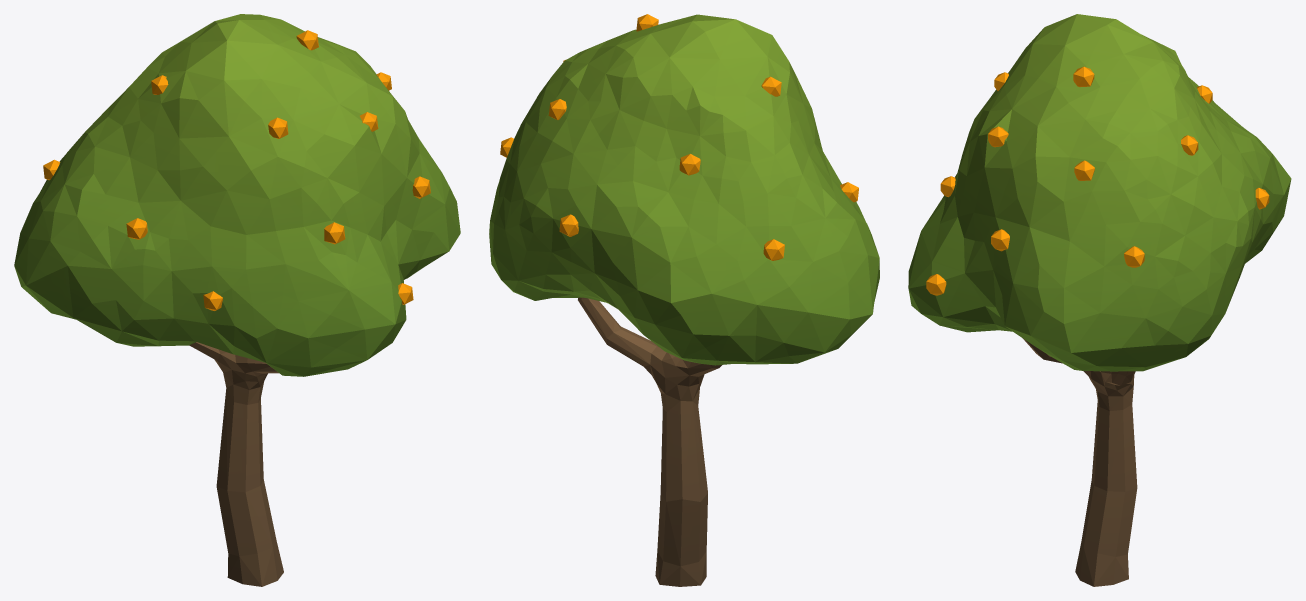
File: Mesh_Plants_AppleTree_02.FBX
The picture shows the model from 3 angles, left to right: view 1: azimuth 30°, elevation 25°; view 2: azimuth 150°, elevation 25°; view 3: azimuth 270°, elevation 25°; orthographic projection. The views are drawn at different scales.
Parts seen in each view (by area): view 1: Mesh_Plants_AppleTree_02; view 2: Mesh_Plants_AppleTree_02; view 3: Mesh_Plants_AppleTree_02.
Boxes of the visible parts, box(x1,y1,x2,y2) form: Mesh_Plants_AppleTree_02: box(14, 14, 460, 586); Mesh_Plants_AppleTree_02: box(489, 14, 879, 586); Mesh_Plants_AppleTree_02: box(908, 14, 1291, 586).
Size of what is drawn, in the model's own units: 371 by 320 by 502.
